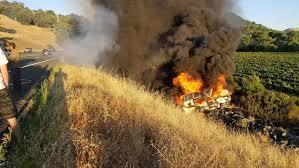fire: (173, 72, 225, 98)
